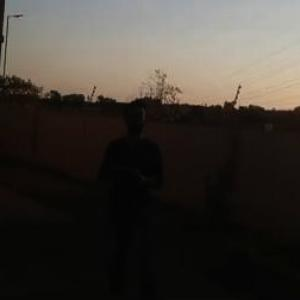follow: (88, 90, 173, 299)
